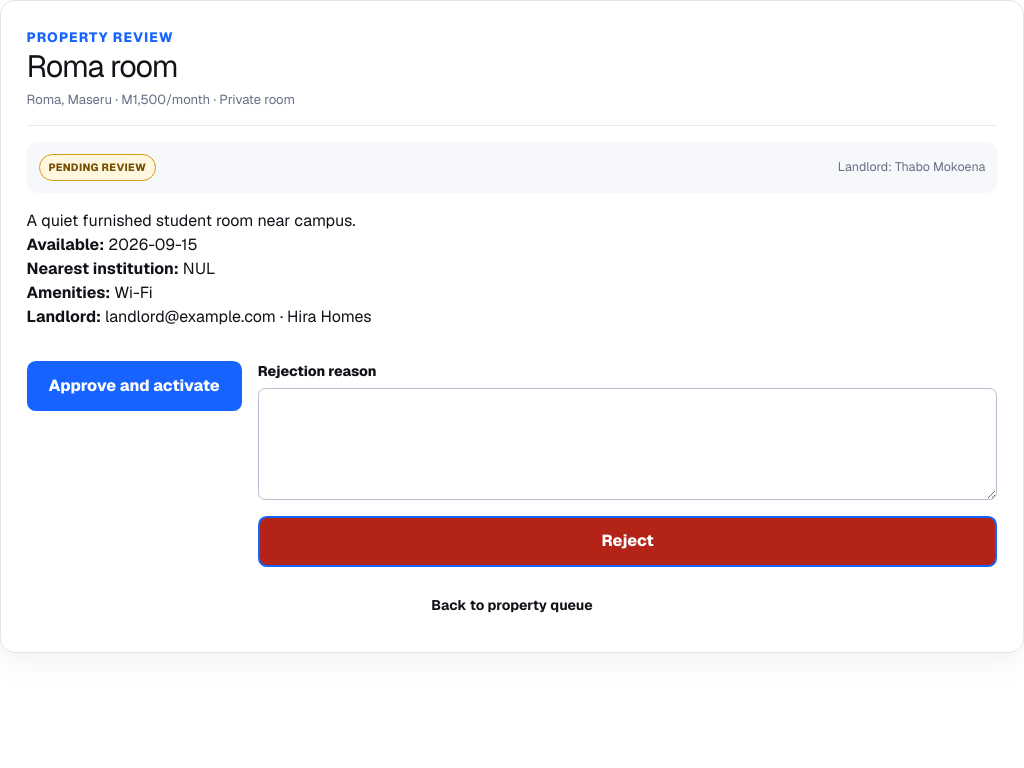
Test: AdminPropertyReview › approves a pending property and disables further decisions
Click the button "Approve and activate". click: [134, 386]
box: [27, 361, 242, 411]
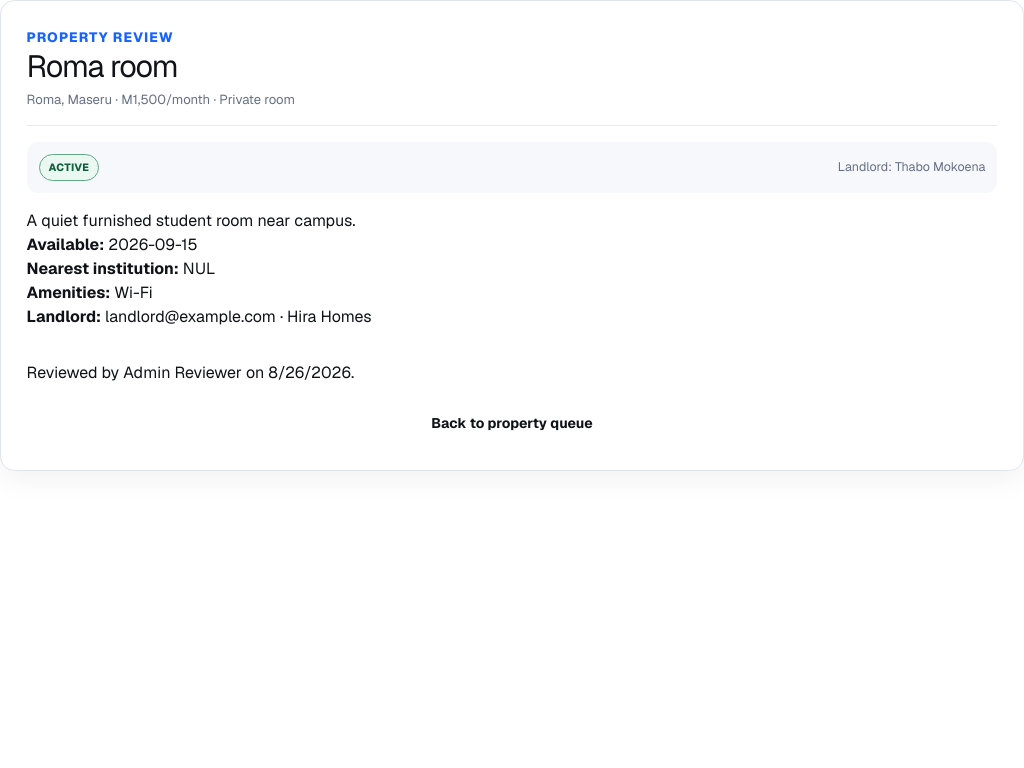
Now the text "ACTIVE" is shown, box [39, 154, 99, 181]
Now the button "Approve and activate" is gone
